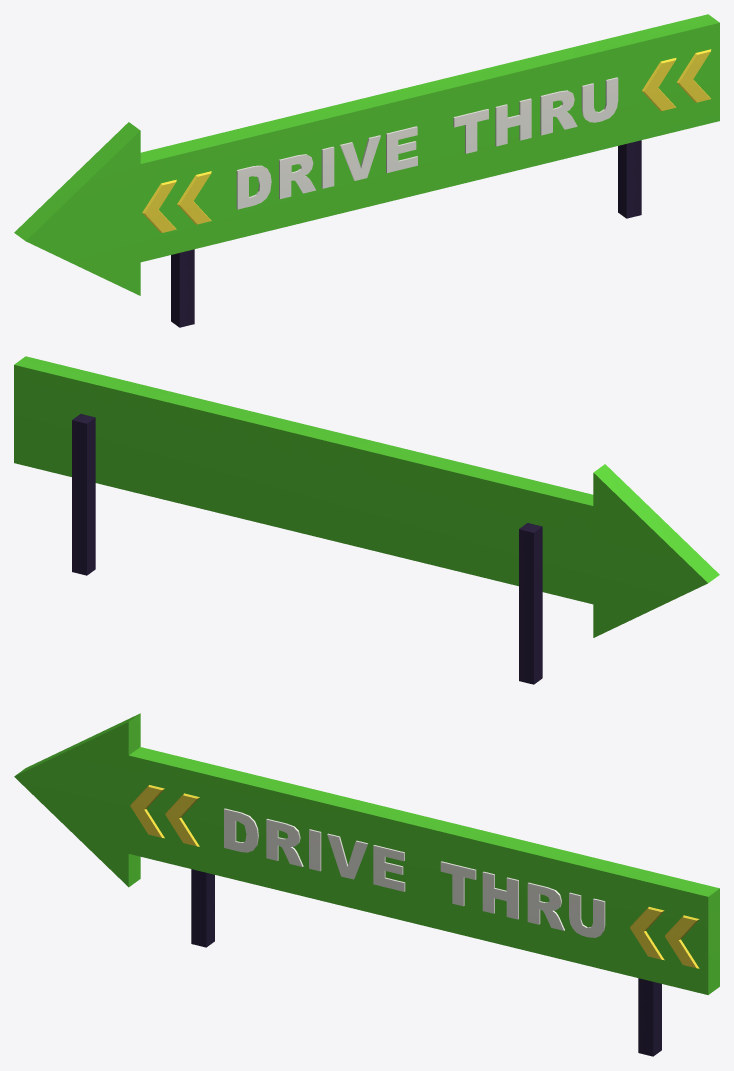
The model's file is Sign_Directional.fbx.
3 renders of one model, top to bottom at view 1: azimuth 30°, elevation 25°; view 2: azimuth 150°, elevation 25°; view 3: azimuth 330°, elevation 25°, orthographic.
Parts seen in each view (by area): view 1: Sign_Directional; view 2: Sign_Directional; view 3: Sign_Directional.
Boxes of the visible parts, box(x1,y1,x2,y2) form: Sign_Directional: box(14, 14, 719, 327); Sign_Directional: box(14, 356, 719, 684); Sign_Directional: box(14, 713, 719, 1056).
Bounding box in the file's own units: 1392 × 418 × 75.31.
